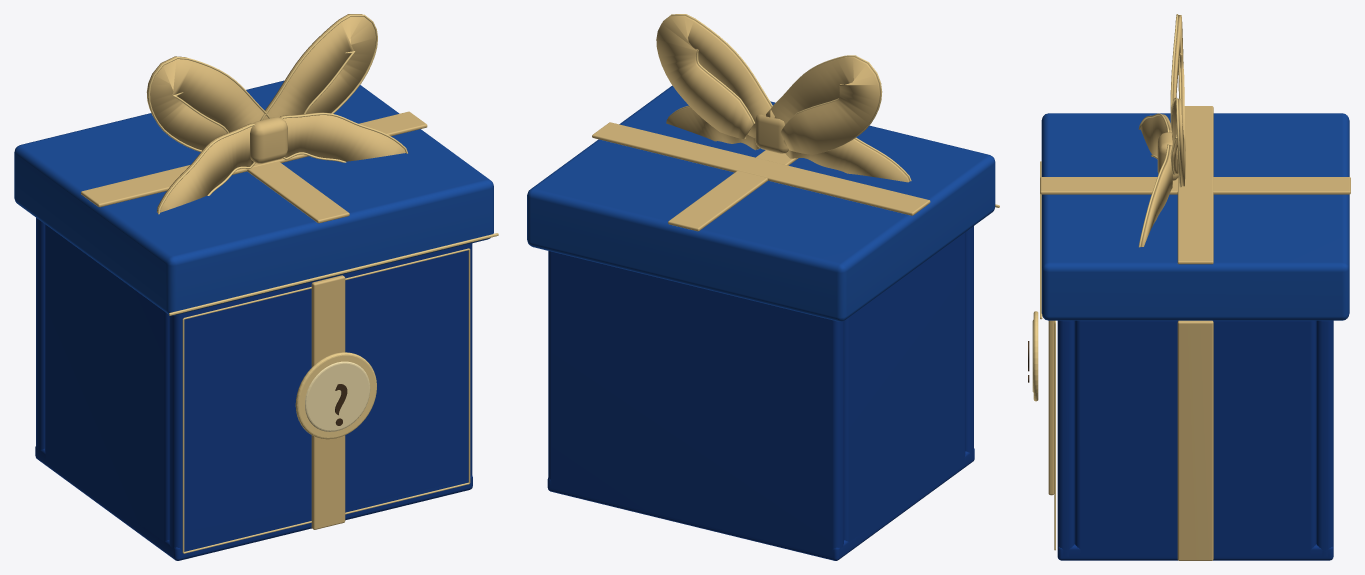
The model's file is style-club-mystery-box-2500.glb.
3 views of the same model, side by side, from view 1: azimuth 30°, elevation 25°; view 2: azimuth 150°, elevation 25°; view 3: azimuth 270°, elevation 25° (orthographic). The views are drawn at different scales.
Parts seen in each view (by area): view 1: BoxShell_FrontBack_-1, LidShell_Main, BoxShell_Sides_-1, GiftRibbon_BowLoop_-1, GiftRibbon_BowLoop_1, GiftRibbon_Front, GiftRibbon_Tail_1, MysterySeal_Face, GiftRibbon_Tail_-1, GiftRibbon_LidCrosswise, BoxShell_Bottom, GiftRibbon_LidLengthwise (+10 smaller); view 2: BoxShell_FrontBack_1, LidShell_Main, BoxShell_Sides_-1, GiftRibbon_BowLoop_1, GiftRibbon_BowLoop_-1, GiftRibbon_LidCrosswise, GiftRibbon_LidLengthwise, GiftRibbon_Tail_-1, BoxShell_Bottom, BoxShell_FrontBack_-1, GiftRibbon_Tail_1, GiftRibbon_BowKnot; view 3: LidShell_Main, BoxShell_Sides_1, GiftRibbon_Right, GiftRibbon_LidCrosswise, GiftRibbon_LidLengthwise, BoxShell_FrontBack_1, BoxShell_FrontBack_-1, BoxShell_Bottom, GiftRibbon_Front, GiftRibbon_Tail_1, GiftRibbon_BowLoop_-1, GiftRibbon_BowLoop_1 (+4 smaller).
Boxes of the visible parts, left/top/right/bottom form: BoxShell_FrontBack_-1: left=169, top=243, right=472, bottom=556; LidShell_Main: left=14, top=80, right=493, bottom=315; BoxShell_Sides_-1: left=45, top=224, right=169, bottom=548; GiftRibbon_BowLoop_-1: left=146, top=56, right=265, bottom=150; GiftRibbon_BowLoop_1: left=265, top=14, right=375, bottom=118; GiftRibbon_Front: left=311, top=275, right=345, bottom=529; GiftRibbon_Tail_1: left=280, top=112, right=405, bottom=161; MysterySeal_Face: left=305, top=361, right=370, bottom=431; GiftRibbon_Tail_-1: left=157, top=123, right=253, bottom=212; GiftRibbon_LidCrosswise: left=81, top=111, right=427, bottom=207; BoxShell_Bottom: left=35, top=446, right=472, bottom=560; GiftRibbon_LidLengthwise: left=247, top=161, right=349, bottom=223; BoxShell_FrontBack_1: left=548, top=251, right=843, bottom=556; LidShell_Main: left=527, top=85, right=995, bottom=321; BoxShell_Sides_-1: left=844, top=232, right=965, bottom=548; GiftRibbon_BowLoop_1: left=656, top=15, right=774, bottom=138; GiftRibbon_BowLoop_-1: left=766, top=56, right=880, bottom=154; GiftRibbon_LidCrosswise: left=592, top=122, right=930, bottom=215; GiftRibbon_LidLengthwise: left=668, top=150, right=798, bottom=231; GiftRibbon_Tail_-1: left=785, top=138, right=909, bottom=182; BoxShell_Bottom: left=547, top=448, right=974, bottom=560; BoxShell_FrontBack_-1: left=965, top=226, right=973, bottom=459; GiftRibbon_Tail_1: left=666, top=106, right=758, bottom=150; GiftRibbon_BowKnot: left=755, top=114, right=788, bottom=153; LidShell_Main: left=1041, top=113, right=1349, bottom=320; BoxShell_Sides_1: left=1074, top=320, right=1316, bottom=556; GiftRibbon_Right: left=1177, top=320, right=1213, bottom=560; GiftRibbon_LidCrosswise: left=1177, top=106, right=1213, bottom=264; GiftRibbon_LidLengthwise: left=1040, top=177, right=1350, bottom=194; BoxShell_FrontBack_1: left=1316, top=320, right=1333, bottom=556; BoxShell_FrontBack_-1: left=1057, top=320, right=1074, bottom=556; BoxShell_Bottom: left=1057, top=544, right=1333, bottom=560; GiftRibbon_Front: left=1048, top=320, right=1054, bottom=495; GiftRibbon_Tail_1: left=1140, top=145, right=1172, bottom=246; GiftRibbon_BowLoop_-1: left=1172, top=15, right=1185, bottom=150; GiftRibbon_BowLoop_1: left=1172, top=98, right=1185, bottom=186.
Size of the model in its own units: 1.39 by 1.8 by 1.22.
